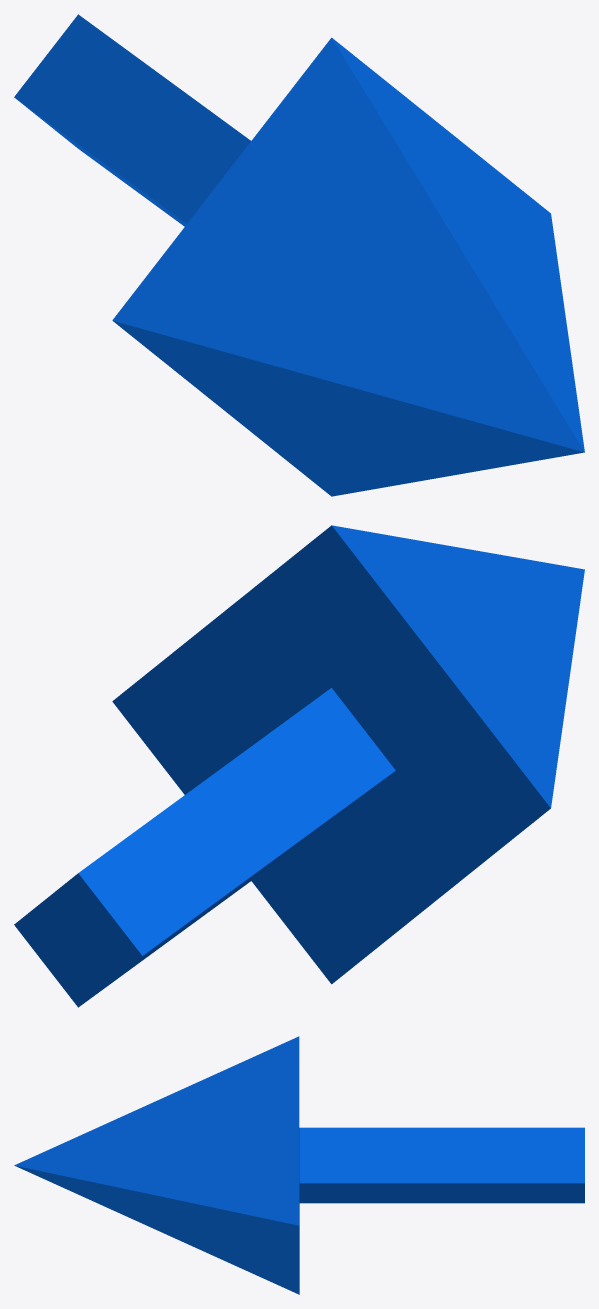
Rendered from VF_Arrow.fbx.
3 renders of one model, top to bottom at view 1: azimuth 30°, elevation 25°; view 2: azimuth 150°, elevation 25°; view 3: azimuth 270°, elevation 25°, orthographic. The views are drawn at different scales.
Parts seen in each view (by area): view 1: pCone1; view 2: pCone1; view 3: pCone1.
Part boxes in pixels (x1,y1,x2,y2): pCone1: (14,14,584,496); pCone1: (14,525,584,1007); pCone1: (14,1036,584,1294).
Size of the model in its own units: 2 by 2 by 4.
